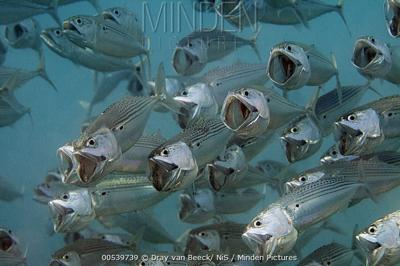Scombridae -Tunas-: (69, 60, 187, 185), (241, 157, 378, 261), (144, 119, 231, 201), (59, 12, 158, 77), (216, 82, 321, 139), (265, 37, 345, 104), (171, 23, 263, 76)
